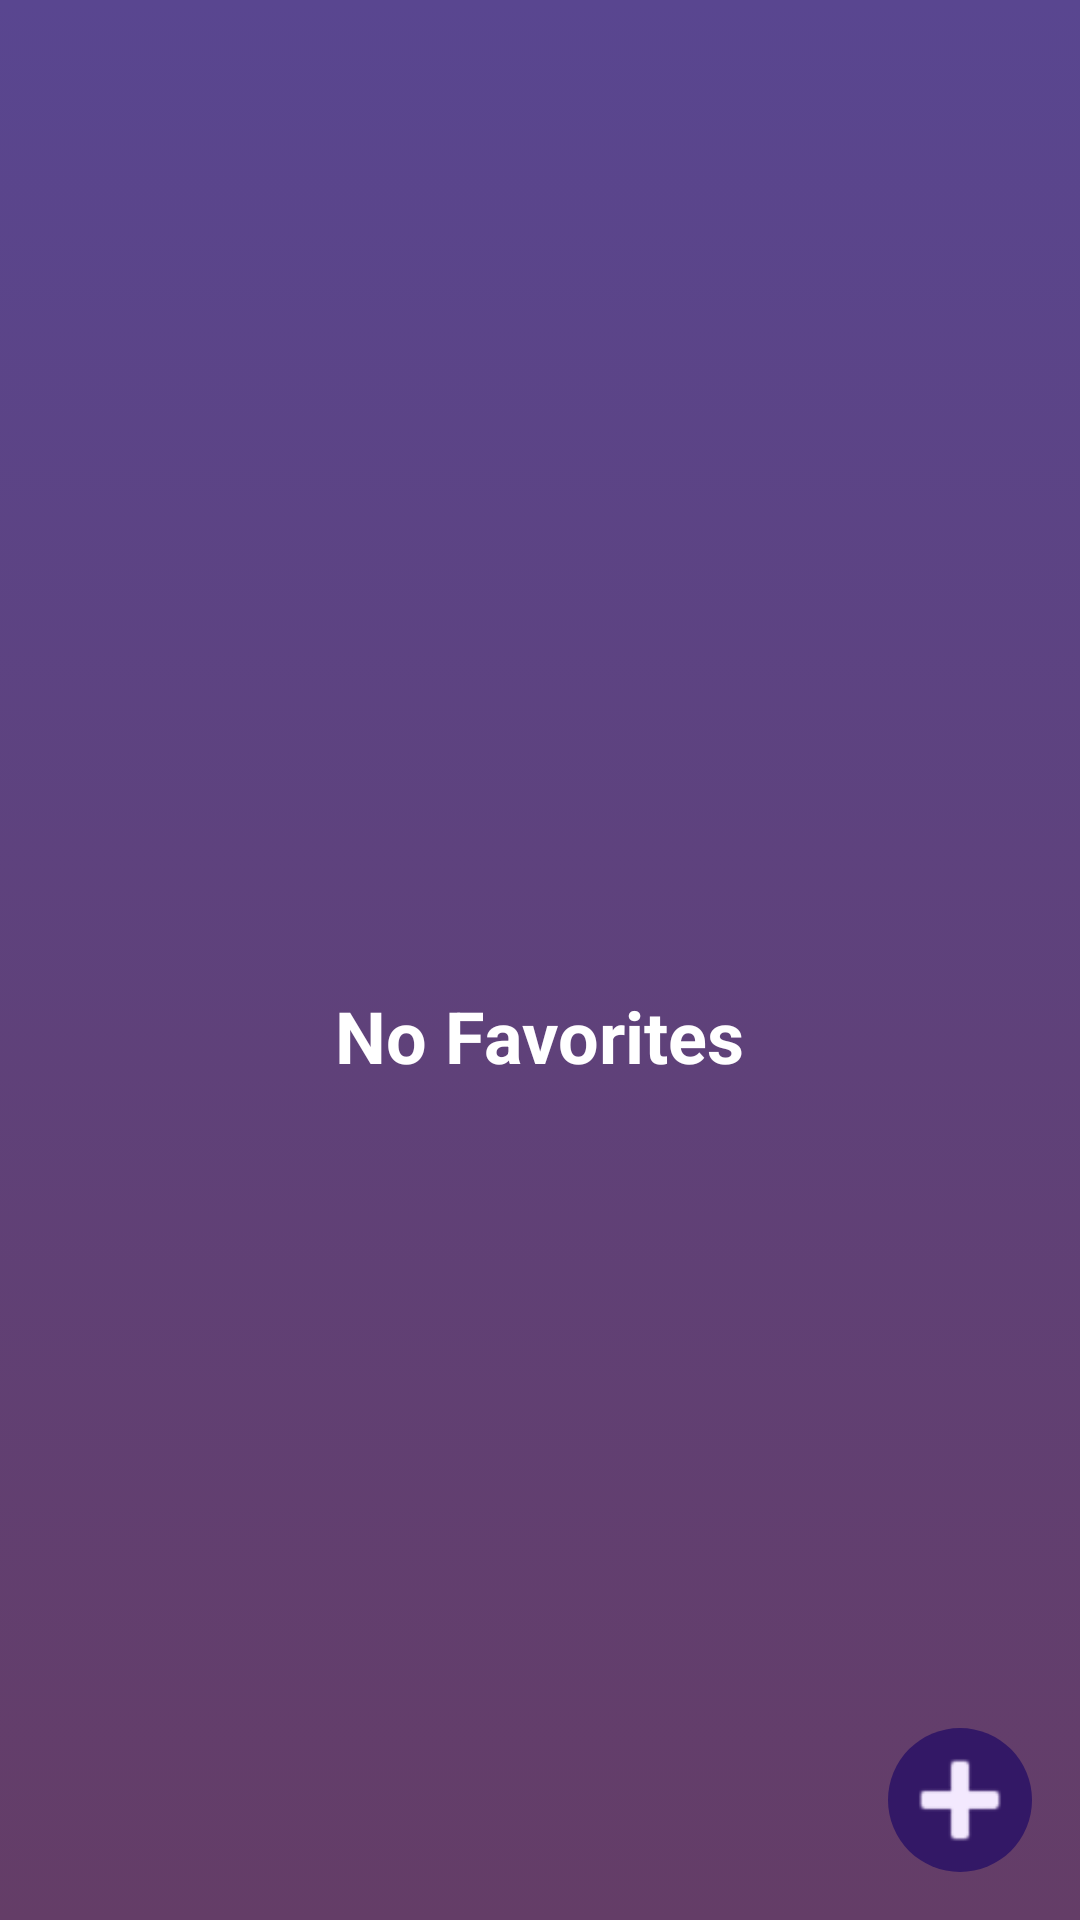

Icons on this 1080px x 1920px Android screen, each with the point to tap as (x=x, y=y):
add: (x=960, y=1800)
